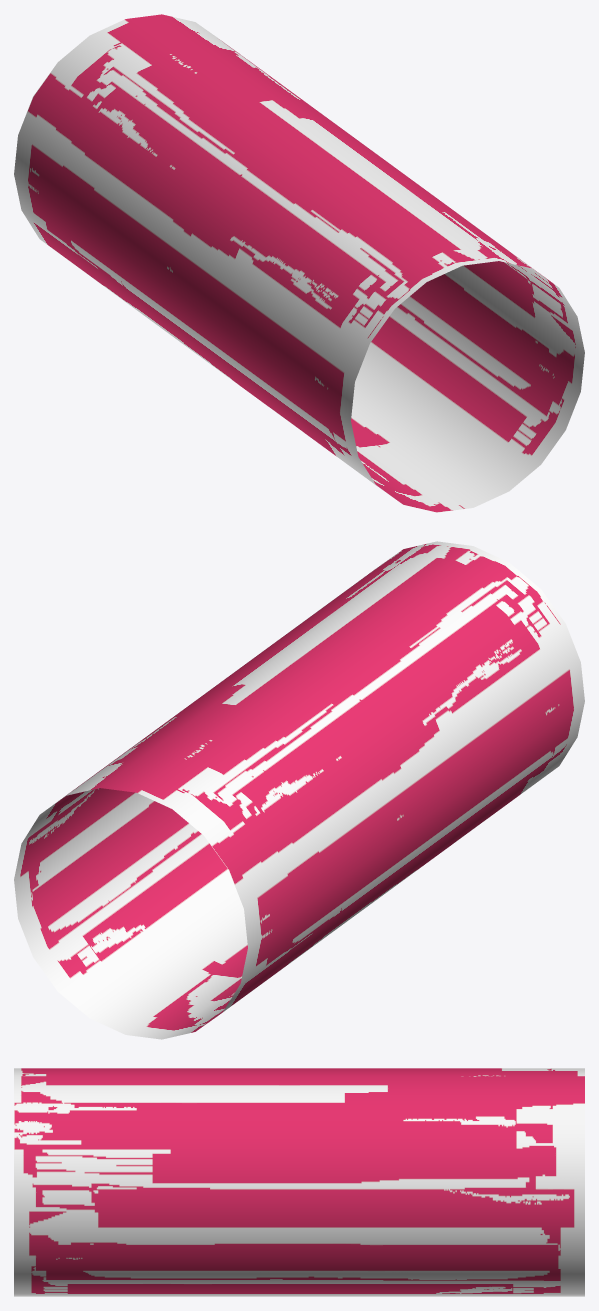
File: locus PUPU.fbx
3 views of the same model, one above another, from view 1: azimuth 30°, elevation 25°; view 2: azimuth 150°, elevation 25°; view 3: azimuth 270°, elevation 25° (orthographic). The views are drawn at different scales.
Visible parts, largest first — view 1: pCylinder5; view 2: pCylinder5; view 3: pCylinder5.
Boxes of the visible parts, box(x1,y1,x2,y2) form: pCylinder5: box(14, 14, 584, 512); pCylinder5: box(14, 541, 584, 1039); pCylinder5: box(14, 1068, 584, 1296).
Size of the model in its own units: 5.99 by 5.99 by 14.95.
